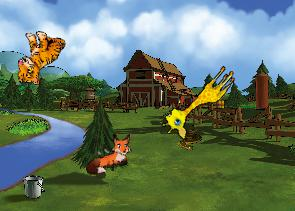fox: (79, 130, 138, 177)
giraffe: (157, 56, 239, 144)
tiger: (14, 28, 66, 87)
